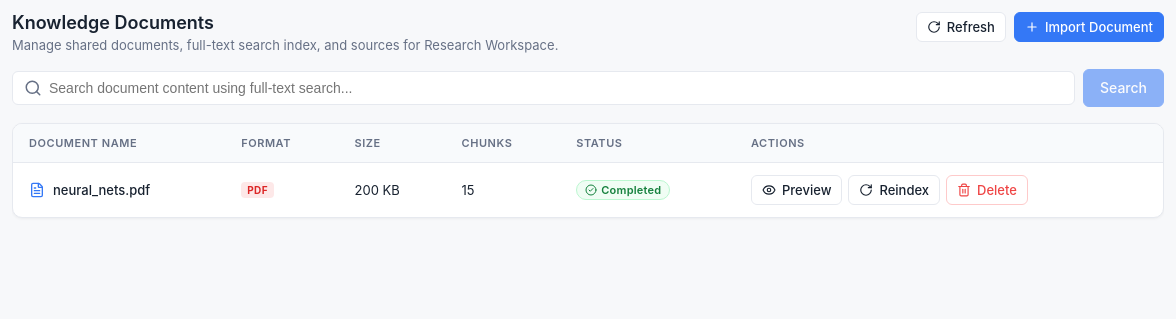
WorkspaceKnowledgeTab (Phase 5 Step 5.11) › 3. Document Import › displays error banner when import fails
Expected: the text "neural_nets.pdf" is shown, [53,182,150,198]
Click the button with test id "btn-import-document". click: (1089,27)
box: [1014,12,1164,42]
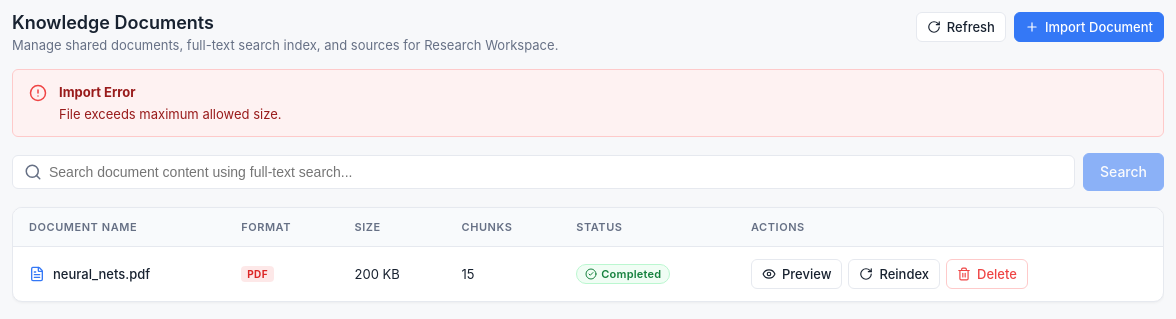
Now the message "Import Error File exceeds maximum allowed size." is shown, box [12,69,1164,137]
Now the text "File exceeds maximum allowed size." is shown, box [59,106,282,122]
